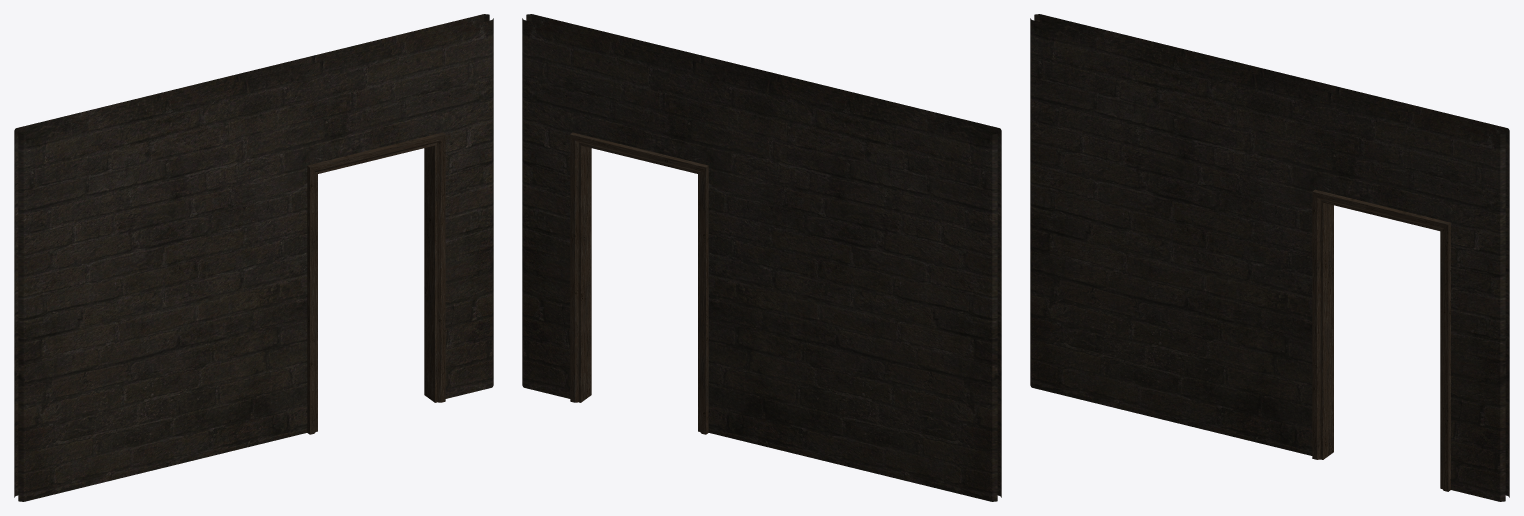
The model's file is side_doorway_3.obj.
3 views of the same model, side by side, from view 1: azimuth 30°, elevation 25°; view 2: azimuth 150°, elevation 25°; view 3: azimuth 330°, elevation 25° (orthographic).
Visible parts, largest first — view 1: side_doorway_3; view 2: side_doorway_3; view 3: side_doorway_3.
Boxes of the visible parts, bbox=[...] form: side_doorway_3: bbox=[14, 14, 493, 501]; side_doorway_3: bbox=[522, 14, 1001, 501]; side_doorway_3: bbox=[1030, 14, 1509, 501].
Size of the model in its own units: 4.06 by 3 by 0.2.
